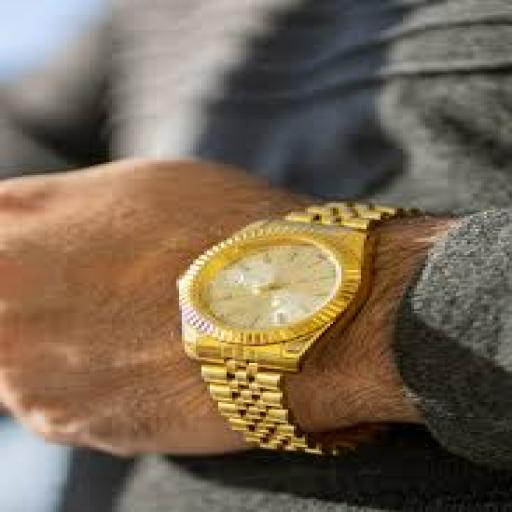KolSaati: (104, 159, 482, 480)
